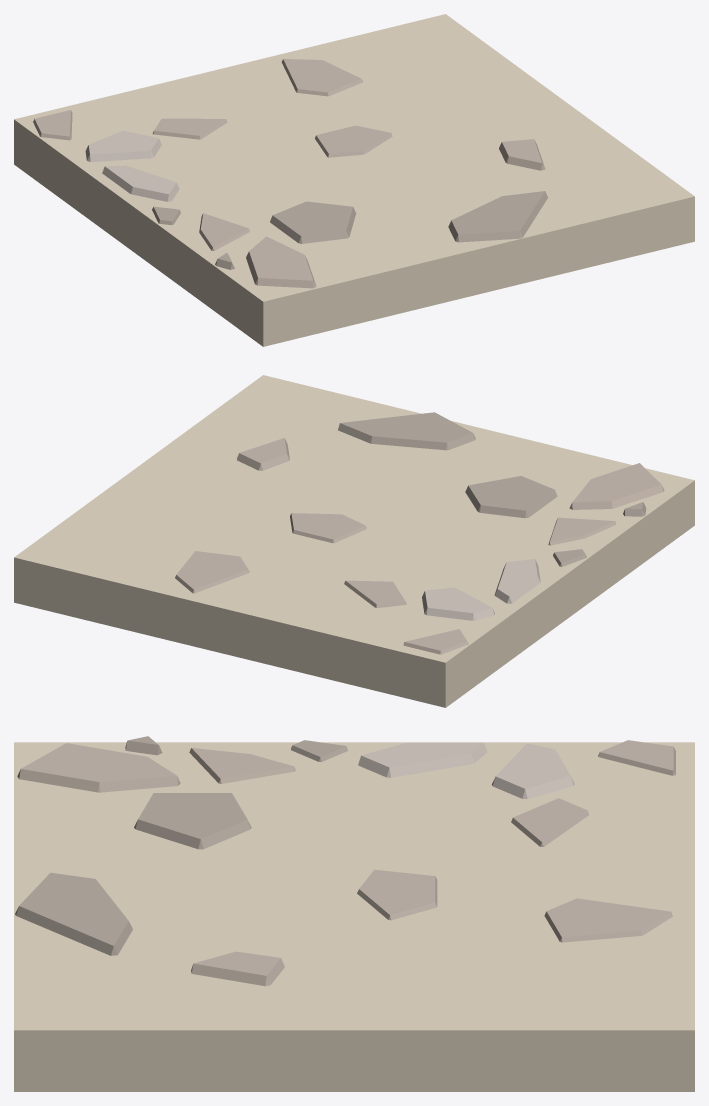
The model's file is Cobblestone_Dirt_Transition_3.glb.
3 renders of one model, top to bottom at view 1: azimuth 30°, elevation 25°; view 2: azimuth 150°, elevation 25°; view 3: azimuth 270°, elevation 25°, orthographic. The views are drawn at different scales.
Parts seen in each view (by area): view 1: object1; view 2: object1; view 3: object1.
Part boxes in pixels (<box>): object1: <box>14,14,694,346</box>; object1: <box>14,375,694,707</box>; object1: <box>14,736,694,1091</box>.
Size of the model in its own units: 2 by 0.2281 by 2.
